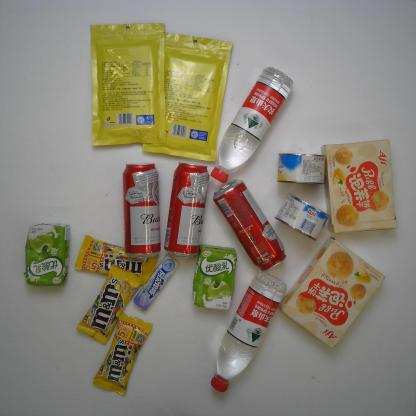Alcohol: (210, 176, 289, 272), (161, 163, 211, 260), (121, 161, 164, 260)
Candy: (132, 254, 180, 311)
Canned Food: (273, 192, 329, 242), (274, 151, 328, 186)
Chocolate: (75, 262, 145, 345), (91, 311, 154, 398), (73, 233, 159, 286)
Dessert: (278, 237, 386, 352), (318, 137, 399, 235)
Dried Fruit: (141, 29, 234, 163), (88, 19, 168, 148)
Drink: (209, 63, 295, 184), (207, 271, 288, 394)
Milk: (190, 242, 238, 312), (20, 221, 70, 288)
